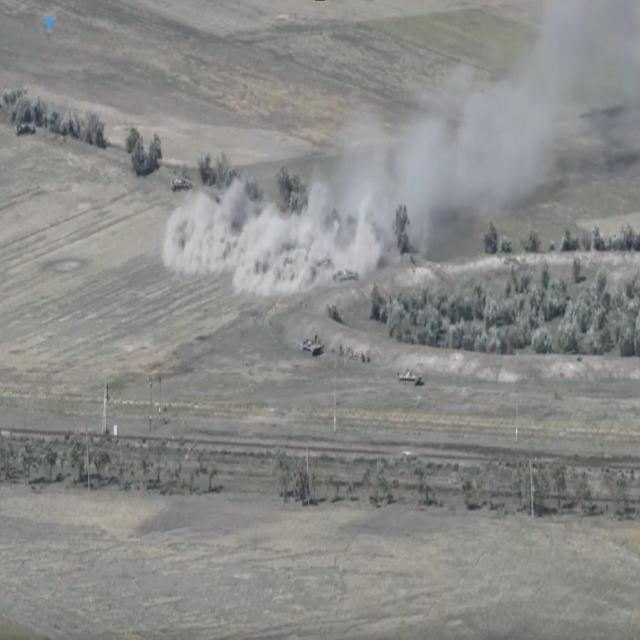AIFV: (335, 267, 363, 292), (396, 367, 425, 389), (302, 337, 326, 362), (16, 120, 41, 142), (172, 178, 196, 196)
